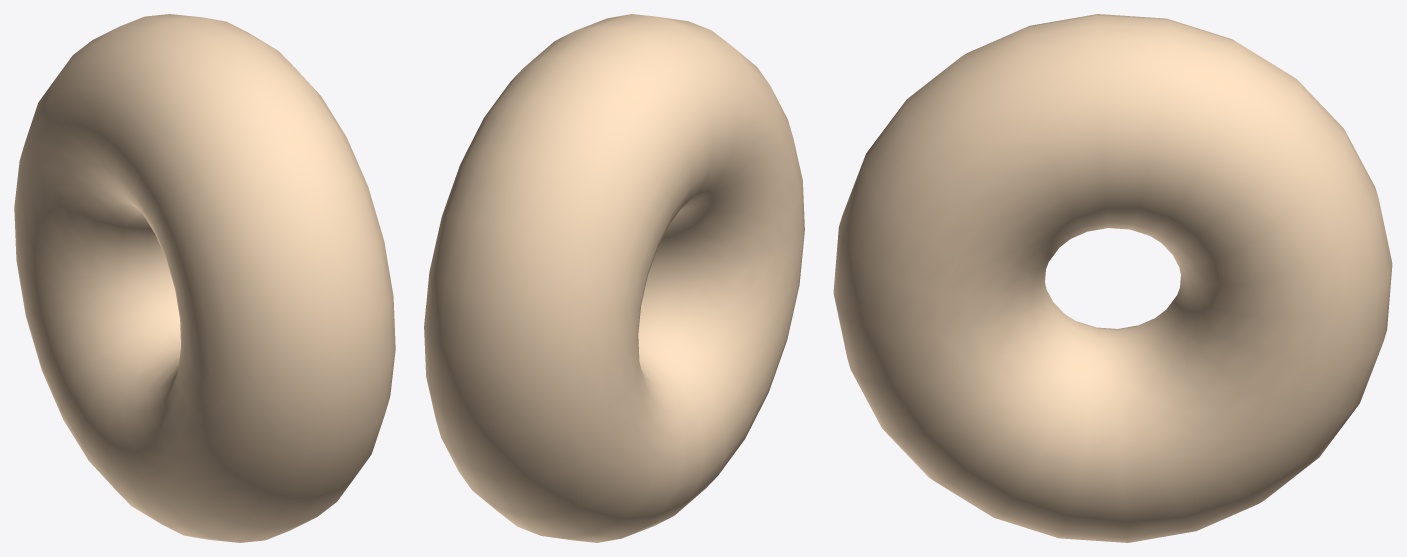
The model's file is tape1_2.dae.
The picture shows the model from 3 angles, left to right: view 1: azimuth 30°, elevation 25°; view 2: azimuth 150°, elevation 25°; view 3: azimuth 270°, elevation 25°; orthographic projection. The views are drawn at different scales.
Parts seen in each view (by area): view 1: tape1_019; view 2: tape1_019; view 3: tape1_019.
Part boxes in pixels (left/top/right/bottom): tape1_019: left=14, top=14, right=395, bottom=542; tape1_019: left=424, top=14, right=804, bottom=542; tape1_019: left=833, top=14, right=1392, bottom=542.
Size of the model in its own units: 0.0739 by 0.1816 by 0.1816.
